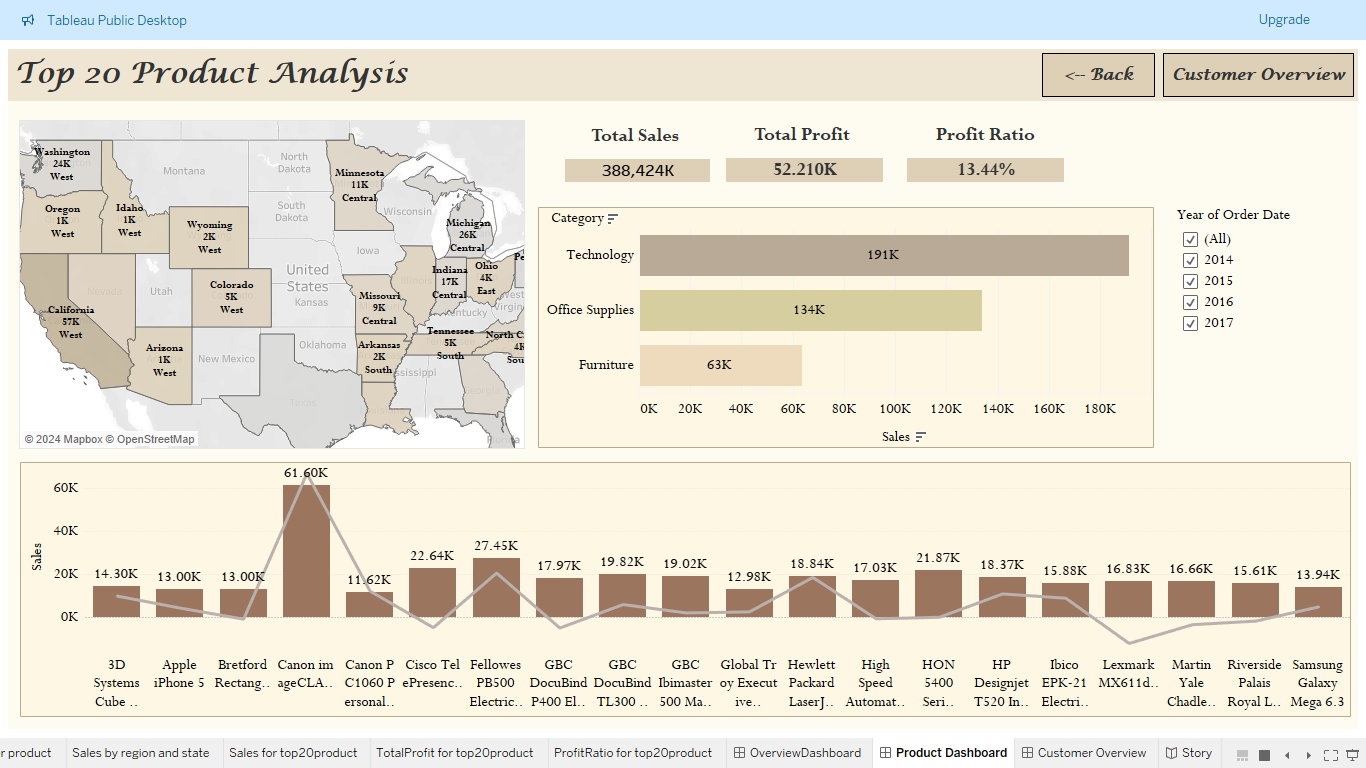

What the dashboard file says about the page in this screenshot:
{"tool":"tableau","page":{"name":"Product Dashboard","canvas":[1350,680],"ordinal":2},"visuals":[{"type":"text","box":[0,0,1030,52]},{"type":"dashboard-object","box":[1030,0,121,52]},{"type":"dashboard-object","box":[1151,0,199,52]},{"type":"worksheet","title":"Sales by region and state","mark":"Automatic","box":[11,71,506,329]},{"type":"worksheet","title":"TotalProfit for top20product","mark":"Automatic","box":[718,71,157,72]},{"type":"worksheet","title":"ProfitRatio for top20product","mark":"Automatic","box":[899,71,157,71]},{"type":"worksheet","title":"Sales for top20product","mark":"Automatic","box":[557,72,145,69]},{"type":"filter","title":"Sales & profit for product","param":"[federated.1vwkvo118khmga183gjy00ts2byp].[yr:Order Date:ok]","box":[1169,157,174,139]},{"type":"worksheet","title":"Sales by Category","mark":"Automatic","rows":["Category"],"cols":["Sales"],"box":[530,158,616,241]},{"type":"worksheet","title":"Sales & profit for product","mark":"Automatic","rows":["Sales","Profit"],"box":[12,413,1331,255]}]}

Visuals, with their boxes on the page's 1350x680 design canvas (x1, y1, x2, y2). These are canvas units, not pixel positions in the 1366x768 screenshot, which may show the page scaled, cropped or inside an application window:
text: detection(0, 0, 1030, 52)
dashboard-object: detection(1030, 0, 1151, 52)
dashboard-object: detection(1151, 0, 1350, 52)
"Sales by region and state" worksheet: detection(11, 71, 517, 400)
"TotalProfit for top20product" worksheet: detection(718, 71, 875, 143)
"ProfitRatio for top20product" worksheet: detection(899, 71, 1056, 142)
"Sales for top20product" worksheet: detection(557, 72, 702, 141)
"Sales & profit for product" filter: detection(1169, 157, 1343, 296)
"Sales by Category" worksheet: detection(530, 158, 1146, 399)
"Sales & profit for product" worksheet: detection(12, 413, 1343, 668)
